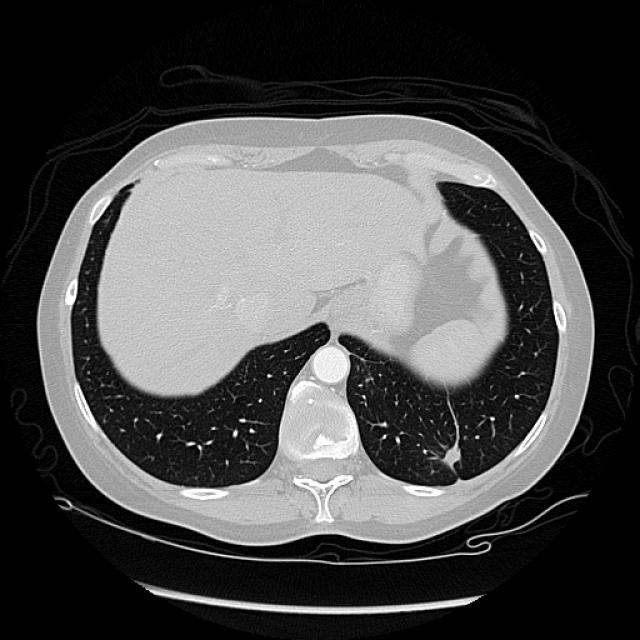nodule: (420, 424, 480, 484)
